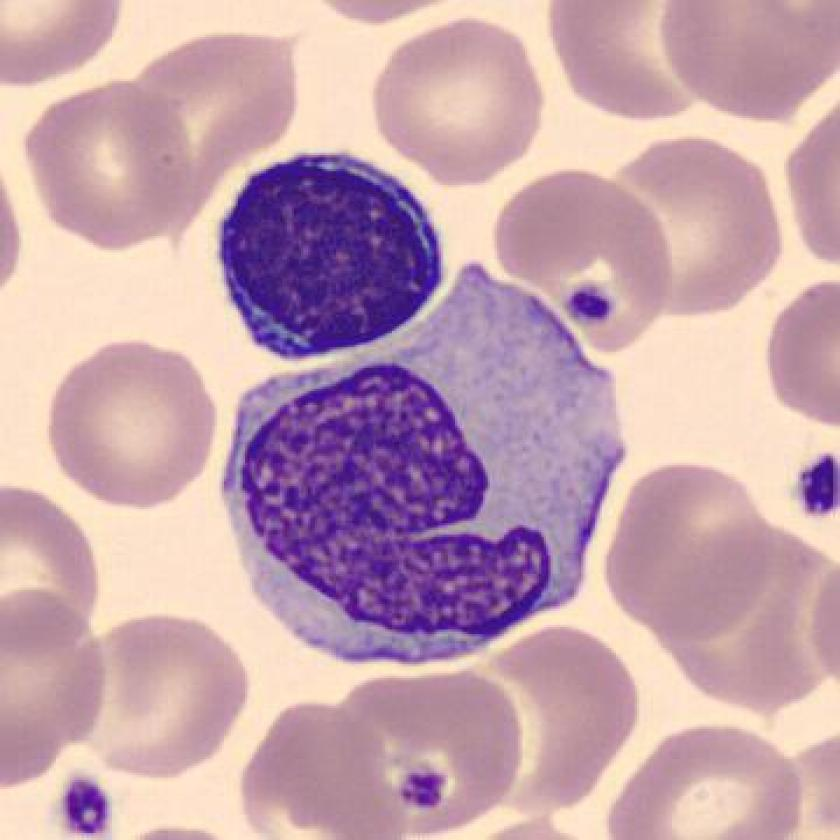monocyte: (216, 300, 647, 682)
